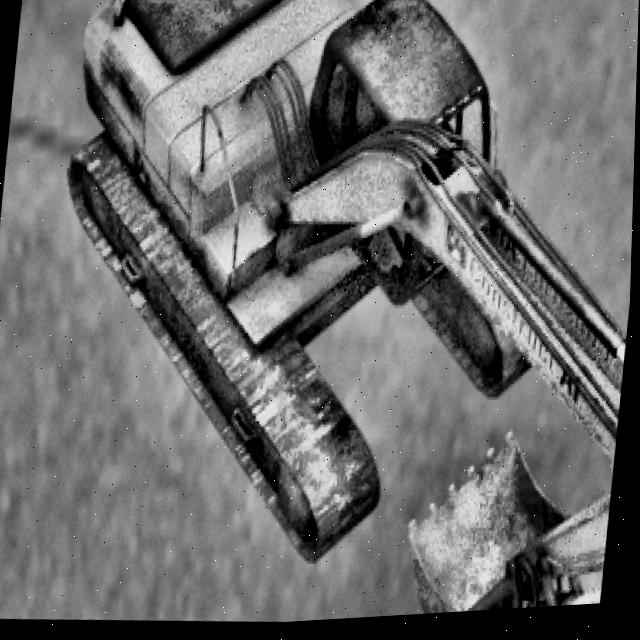excavator: (23, 0, 640, 638)
